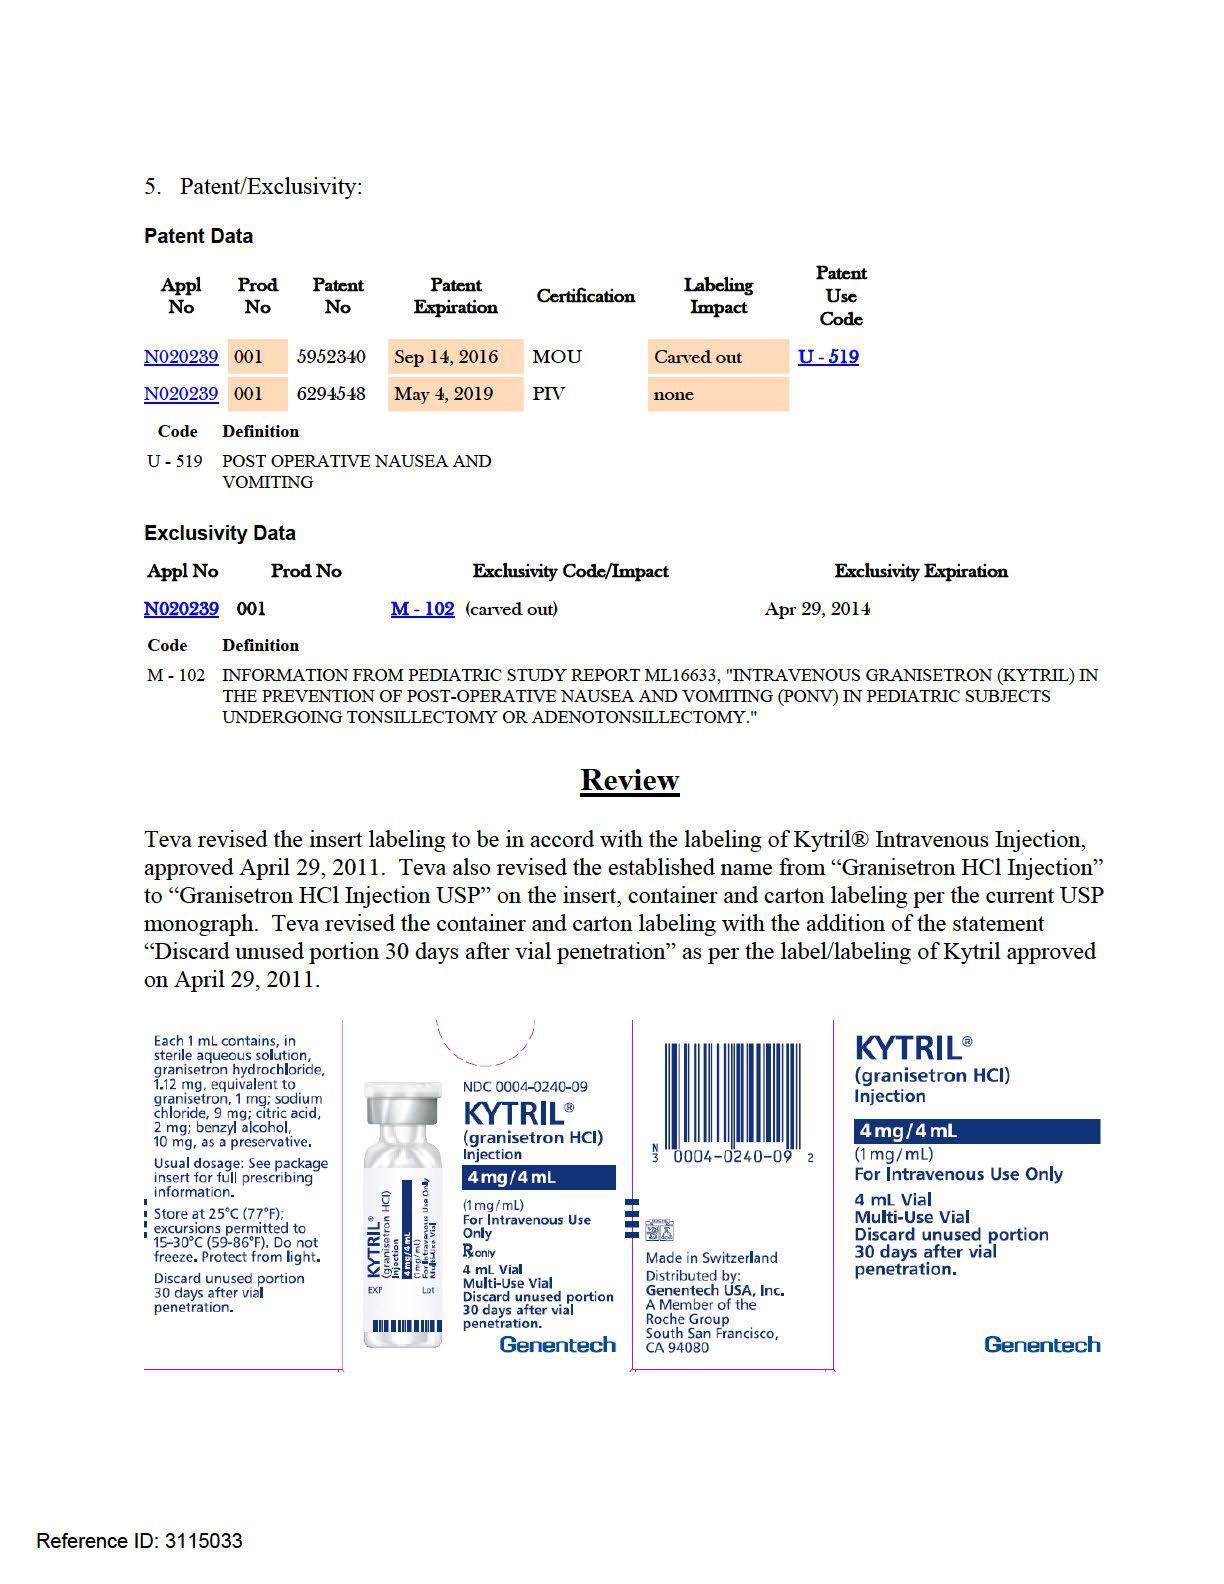nolines: (141, 262, 870, 409), (141, 559, 1011, 654)
